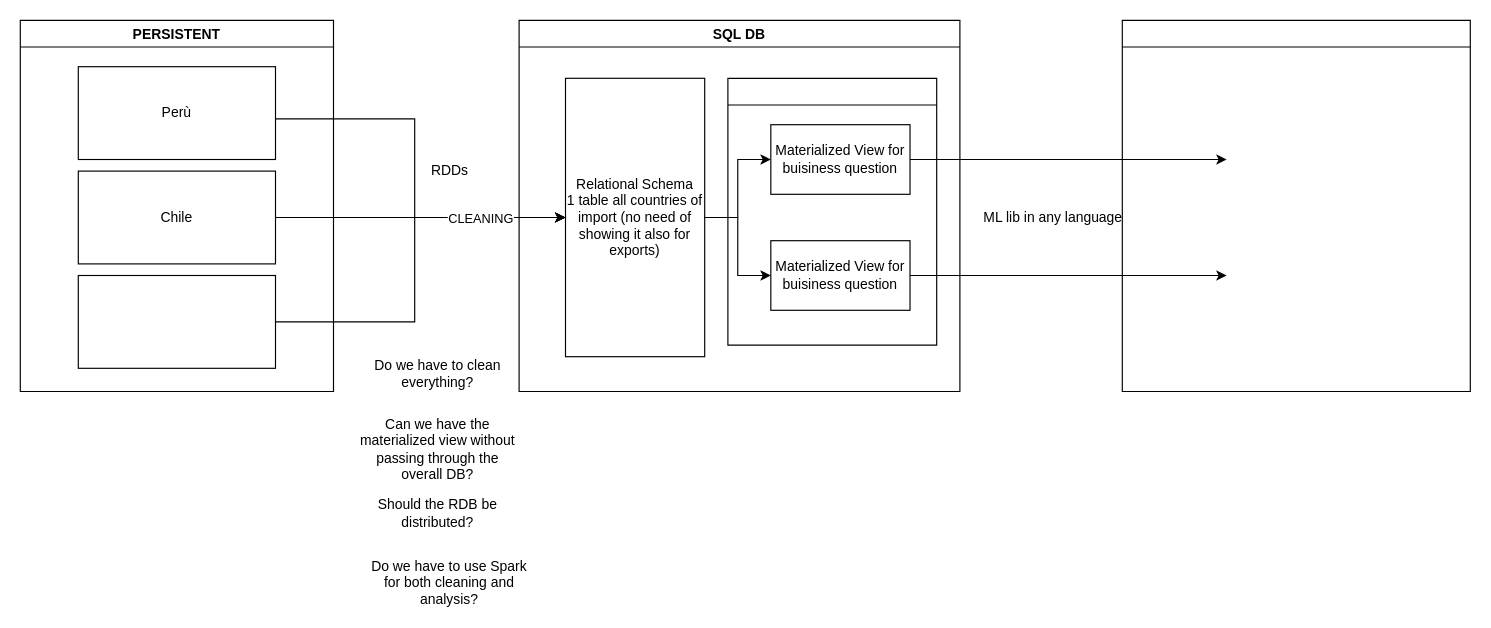
This 1491x628 diagram has some shape labels left out. Each missing label, with the centre of its shape:
"Analysis" goes at point 1295,205.
"Brasil" goes at point 176,321.
"Sand Boxes" goes at point 832,211.
